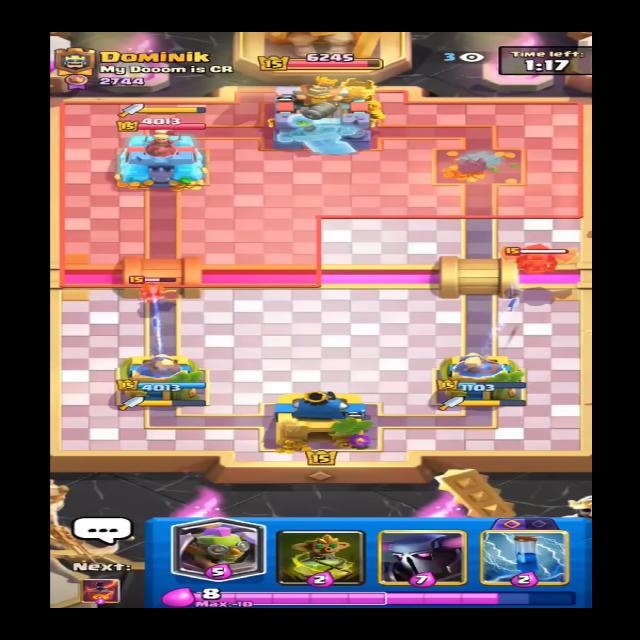lava-hound: (490, 236, 583, 275)
valkyrie: (120, 270, 180, 306)
